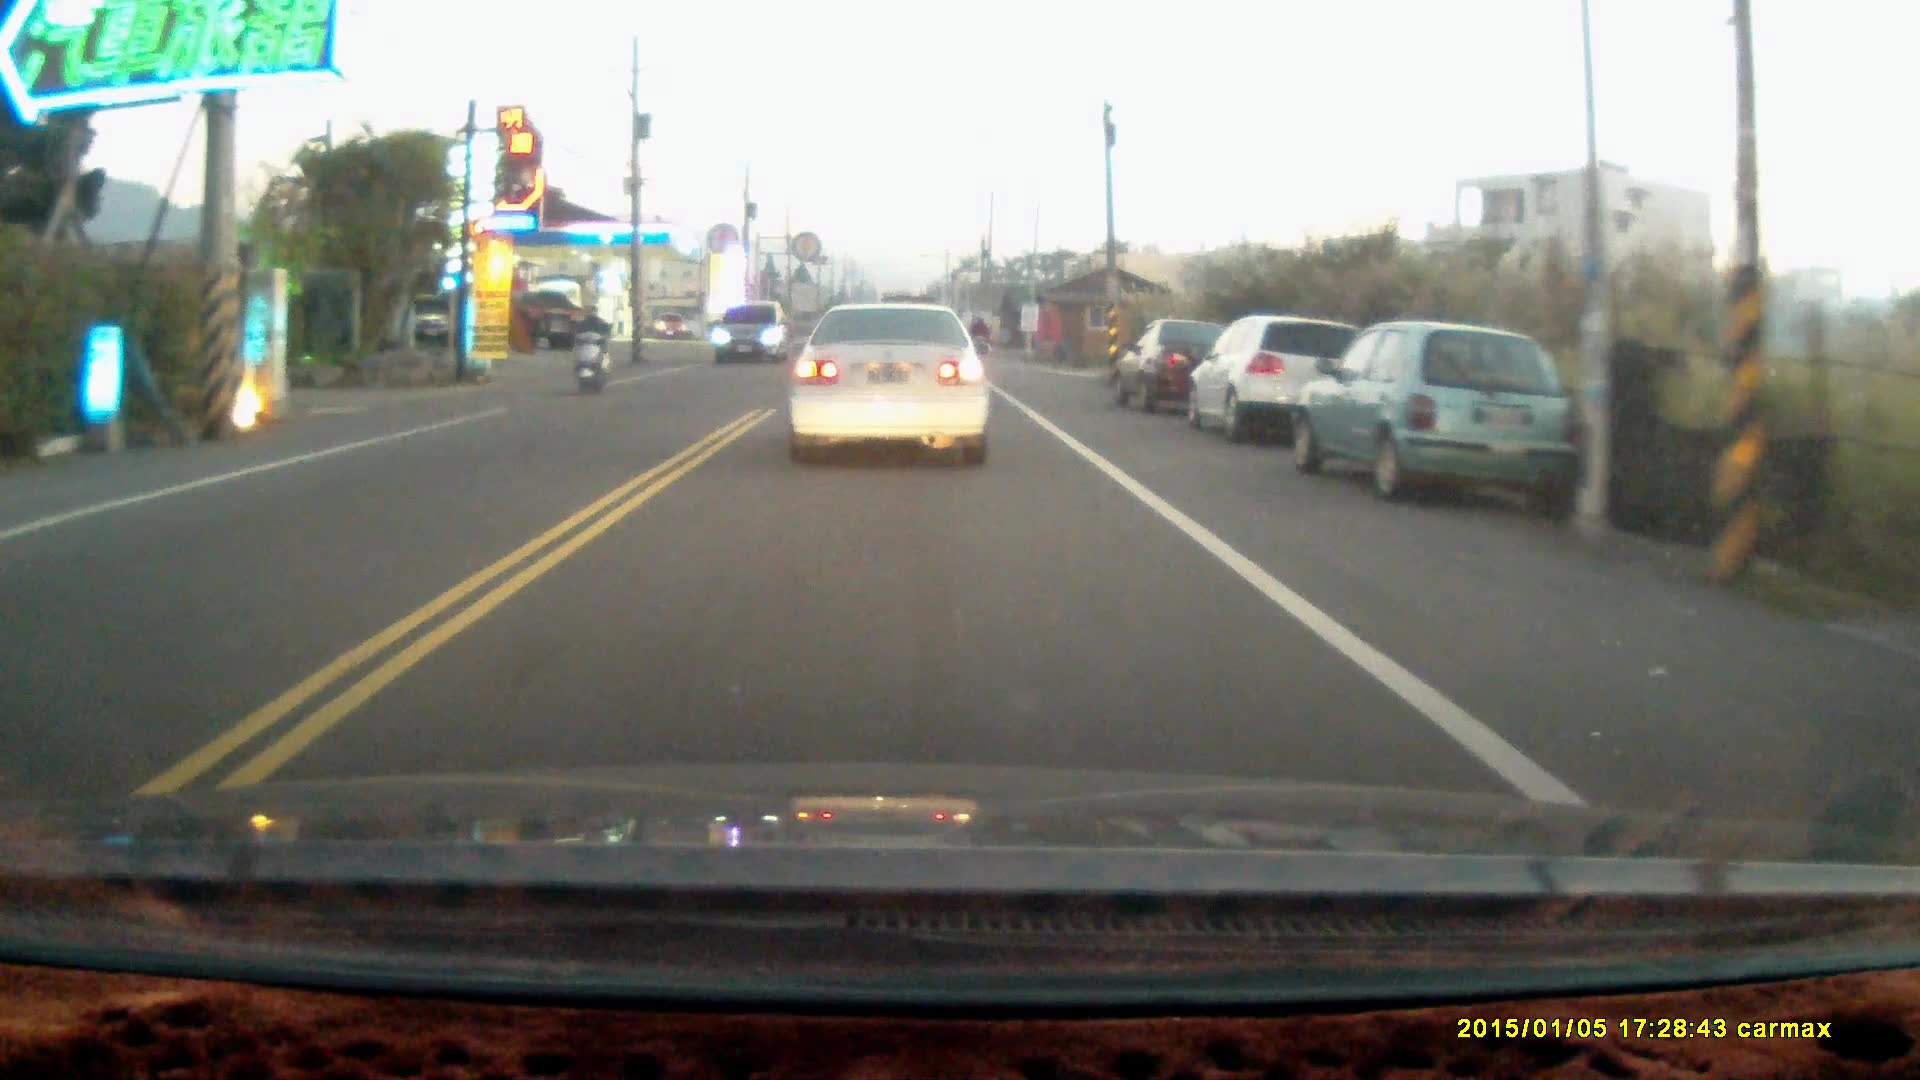rider: (569, 304, 610, 393)
vehicle: (1288, 321, 1586, 502), (788, 295, 997, 468), (1191, 314, 1365, 446), (1120, 314, 1231, 410), (715, 307, 793, 366)
